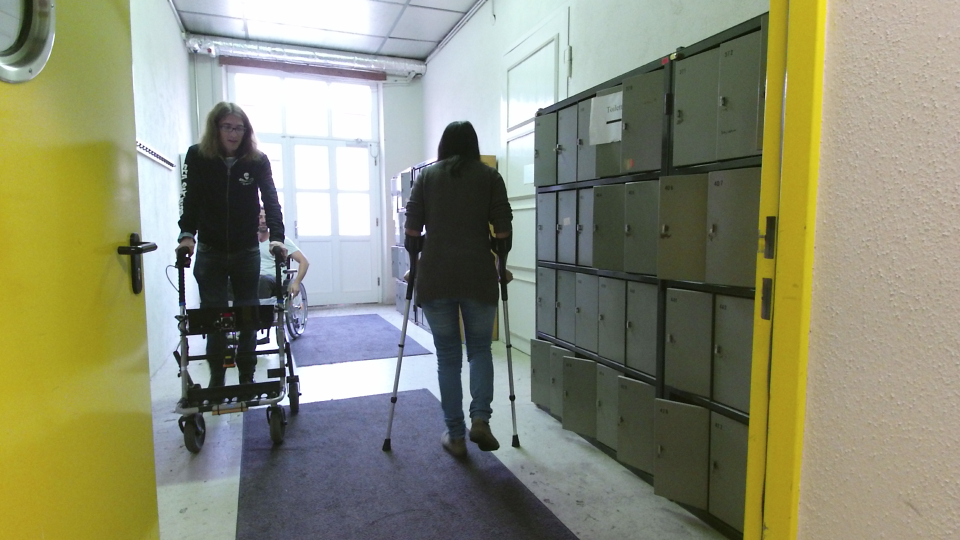crutches: (375, 115, 525, 465)
